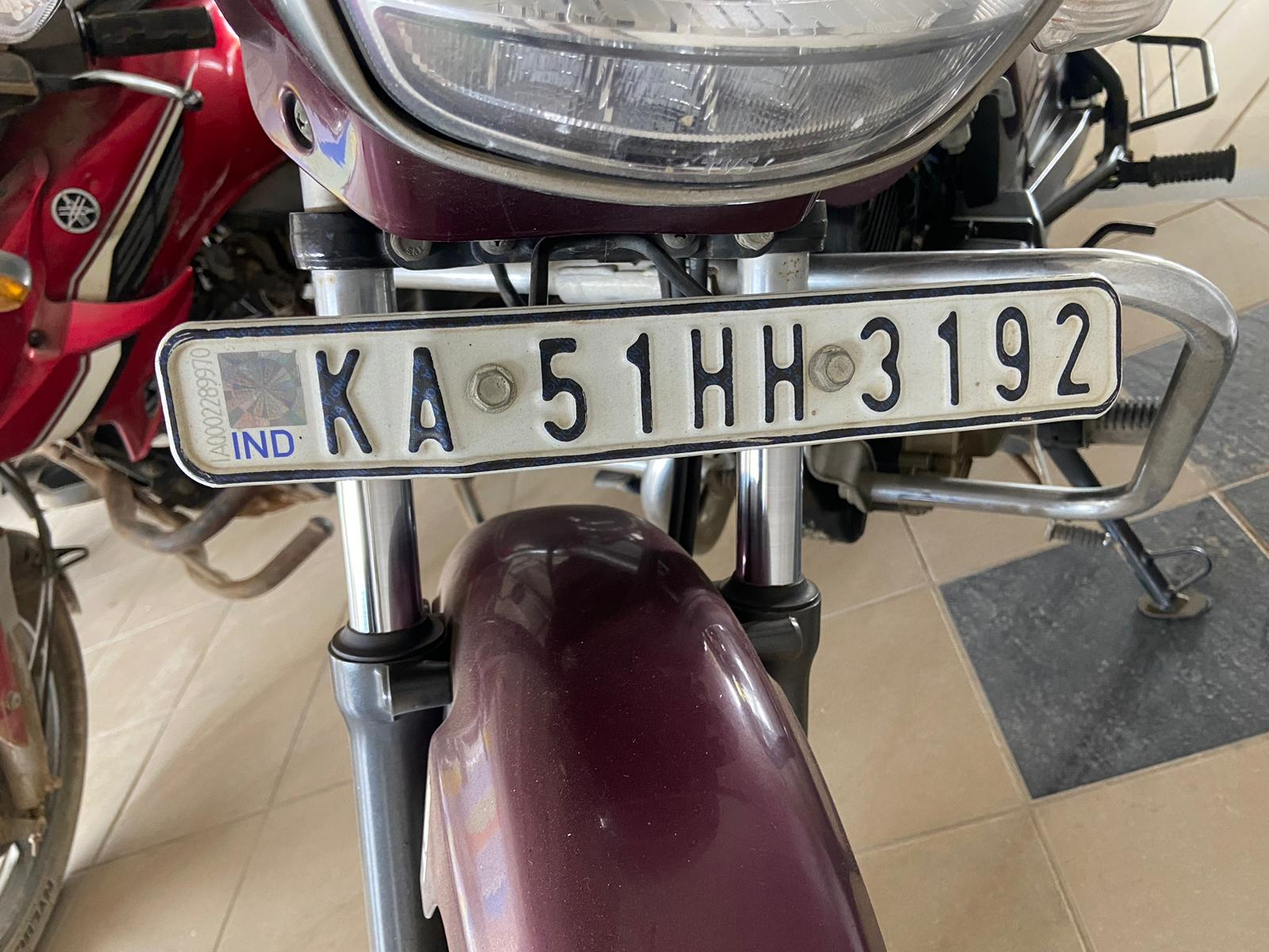1: (615, 320, 669, 438), (928, 300, 973, 413)
2: (1043, 292, 1105, 400)
3: (847, 310, 916, 430)
5: (522, 316, 604, 448)
9: (988, 300, 1045, 408)
A: (403, 338, 461, 465)
H: (748, 314, 816, 440), (679, 320, 751, 433)
K: (292, 336, 388, 462)
